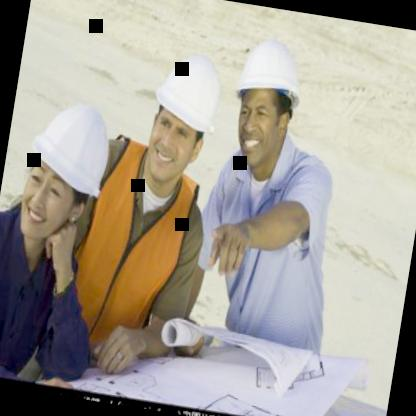helmet: (9, 87, 127, 258), (132, 40, 234, 194), (216, 24, 316, 180)
